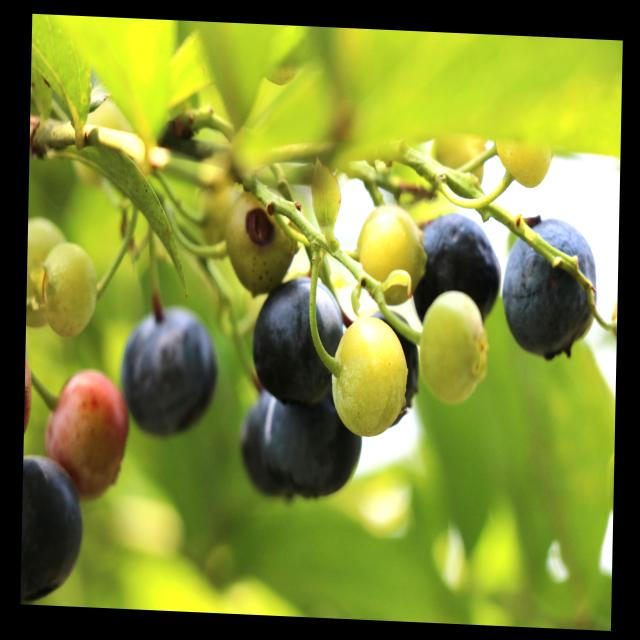blueberry: (503, 208, 601, 364), (119, 303, 220, 438), (249, 270, 347, 404), (412, 206, 506, 336), (264, 382, 365, 498), (20, 457, 89, 604), (362, 305, 426, 430), (238, 392, 285, 500)
blueberry-halfripe: (49, 370, 130, 496)
blueberry-unripe: (331, 311, 407, 433), (423, 289, 483, 407), (222, 189, 292, 290), (358, 201, 424, 293), (44, 244, 99, 338), (496, 125, 552, 191)
